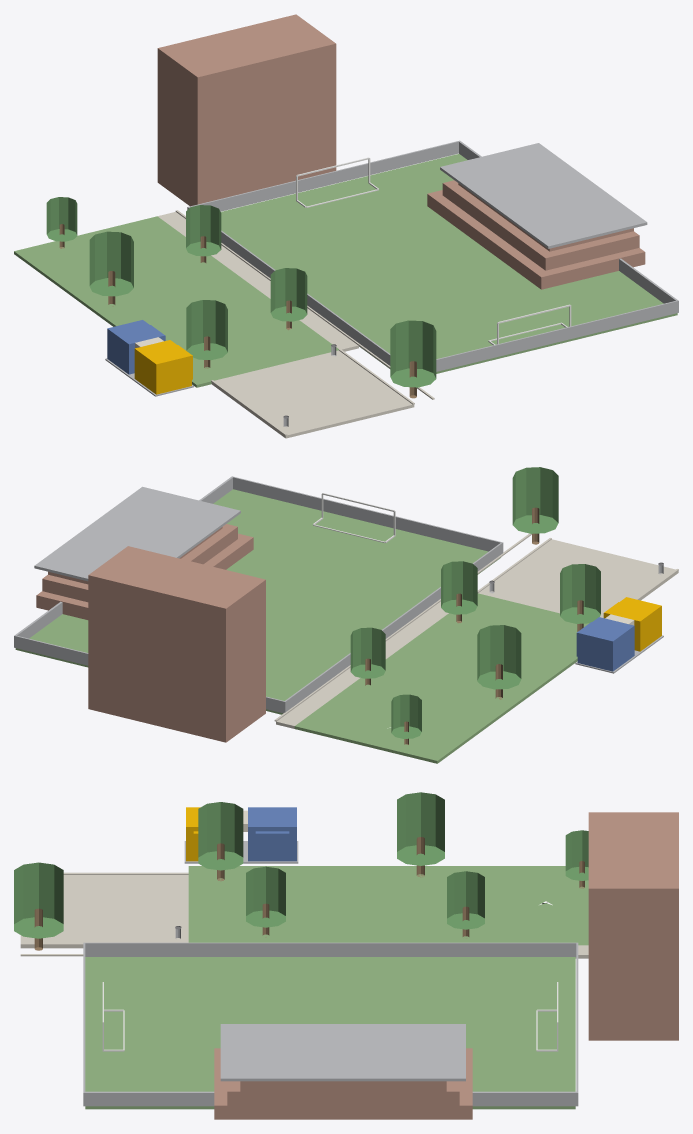
Rendered from village_green.glb.
The picture shows the model from 3 angles, top to bottom: view 1: azimuth 30°, elevation 25°; view 2: azimuth 150°, elevation 25°; view 3: azimuth 270°, elevation 25°; orthographic projection. The views are drawn at different scales.
Parts seen in each view (by area): view 1: SoccerPitch, VillageHall, Green, Pavement, GrandstandRoof, PitchFence, Grandstand, BoulderWall, Tree_06, Tree_03, Tree_01, Tree_02 (+2 smaller); view 2: VillageHall, SoccerPitch, Green, Pavement, GrandstandRoof, PitchFence, BoulderWall, Grandstand, Tree_06, Tree_03, Tree_01, Tree_02 (+4 smaller); view 3: SoccerPitch, Green, VillageHall, GrandstandRoof, PitchFence, Grandstand, Pavement, BoulderWall, Tree_06, Tree_03, Tree_01, Tree_02 (+2 smaller).
Part boxes in pixels (x1=…): SoccerPitch: x1=221, y1=154, x2=677, y2=373; VillageHall: x1=157, y1=14, x2=336, y2=206; Green: x1=14, y1=216, x2=338, y2=387; Pavement: x1=157, y1=212, x2=414, y2=438; GrandstandRoof: x1=440, y1=143, x2=647, y2=248; PitchFence: x1=187, y1=140, x2=678, y2=371; Grandstand: x1=427, y1=180, x2=645, y2=289; BoulderWall: x1=105, y1=320, x2=193, y2=396; Tree_06: x1=390, y1=320, x2=436, y2=398; Tree_03: x1=89, y1=231, x2=133, y2=306; Tree_01: x1=186, y1=300, x2=227, y2=368; Tree_02: x1=270, y1=268, x2=307, y2=330; VillageHall: x1=88, y1=546, x2=265, y2=742; SoccerPitch: x1=15, y1=489, x2=500, y2=714; Green: x1=294, y1=593, x2=588, y2=763; Pavement: x1=276, y1=539, x2=678, y2=728; GrandstandRoof: x1=34, y1=486, x2=240, y2=581; PitchFence: x1=14, y1=476, x2=503, y2=713; BoulderWall: x1=575, y1=597, x2=663, y2=673; Grandstand: x1=36, y1=524, x2=253, y2=619; Tree_06: x1=512, y1=467, x2=558, y2=544; Tree_03: x1=477, y1=625, x2=521, y2=699; Tree_01: x1=560, y1=564, x2=600, y2=631; Tree_02: x1=441, y1=561, x2=477, y2=623; SoccerPitch: x1=85, y1=957, x2=575, y2=1109; Green: x1=188, y1=866, x2=588, y2=945; VillageHall: x1=588, y1=812, x2=678, y2=1040; GrandstandRoof: x1=220, y1=1024, x2=465, y2=1081; PitchFence: x1=83, y1=942, x2=578, y2=1106; Grandstand: x1=214, y1=1048, x2=472, y2=1119; Pavement: x1=20, y1=875, x2=588, y2=958; BoulderWall: x1=184, y1=807, x2=298, y2=863; Tree_06: x1=14, y1=862, x2=63, y2=950; Tree_03: x1=397, y1=792, x2=444, y2=877; Tree_01: x1=198, y1=802, x2=243, y2=881; Tree_02: x1=246, y1=866, x2=285, y2=937.
Bounding box in the file's own units: 51.35 × 13.28 × 51.53.
